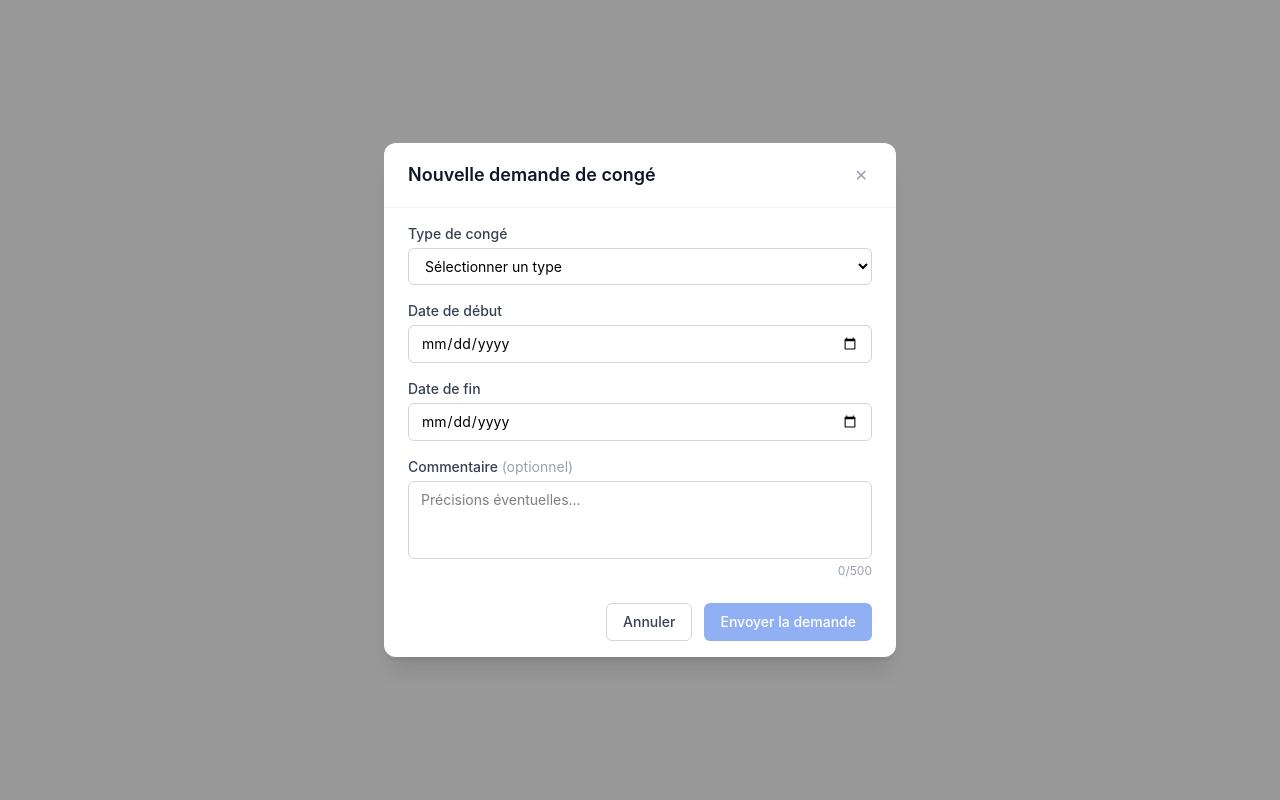
Test: LeaveRequestForm › start date validation › shows inline error when start date is in the past
The image size is (1280, 800).
In the date field with id "start-date": (640, 344) [408,325,872,363], type "2026-01-01"
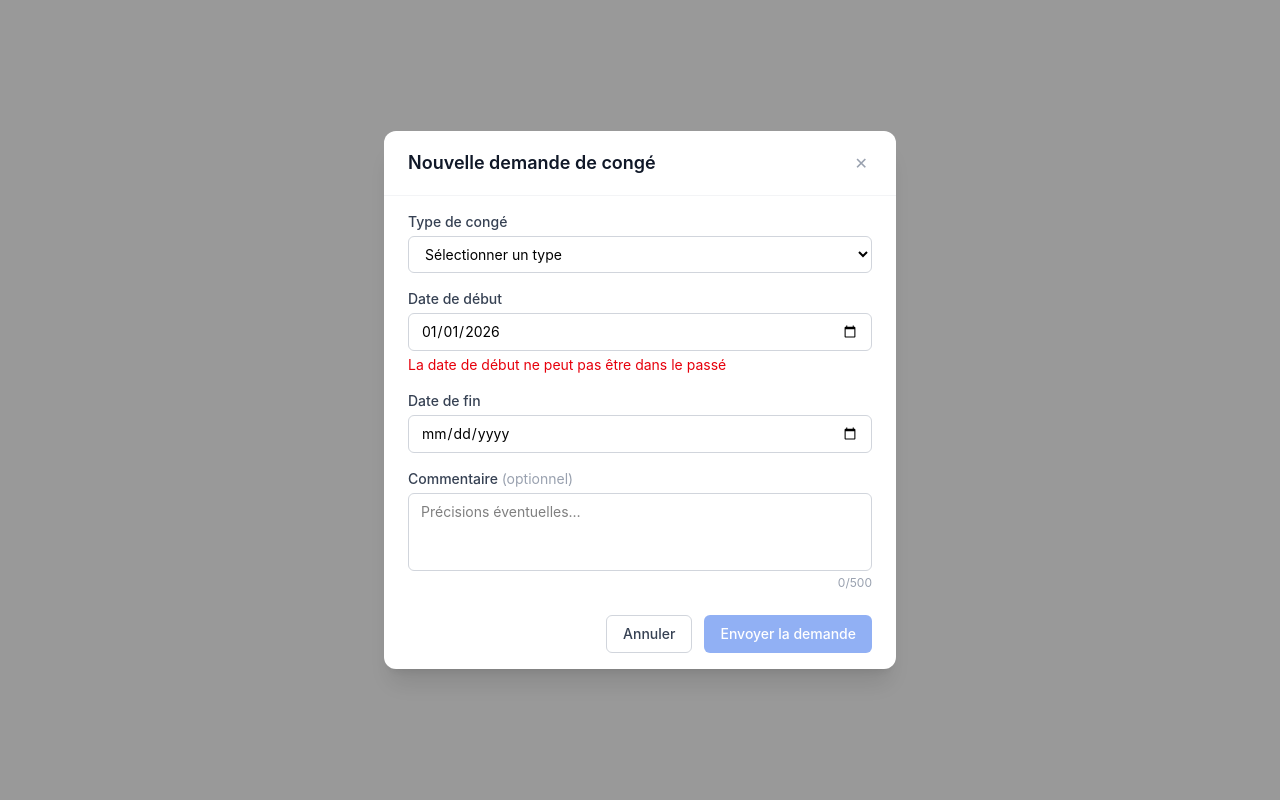
Expected: the text with id "start-date-error" shows "passé", [408,356,726,373]
